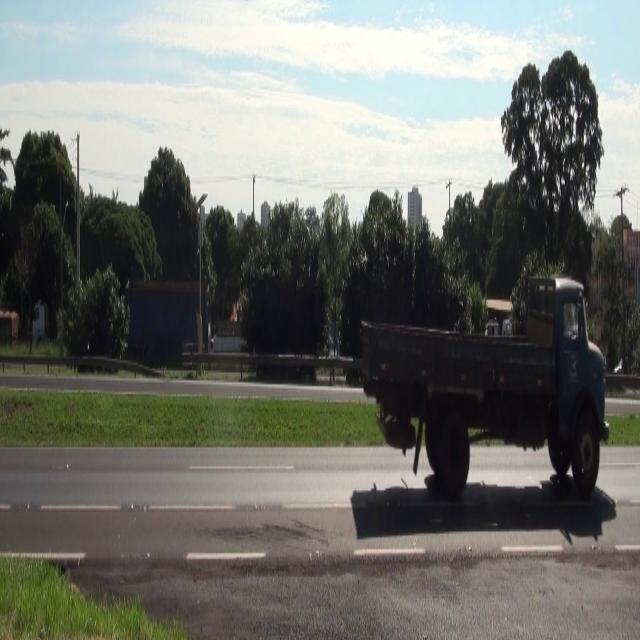-axle: (432, 408, 472, 501), (570, 404, 603, 493)
